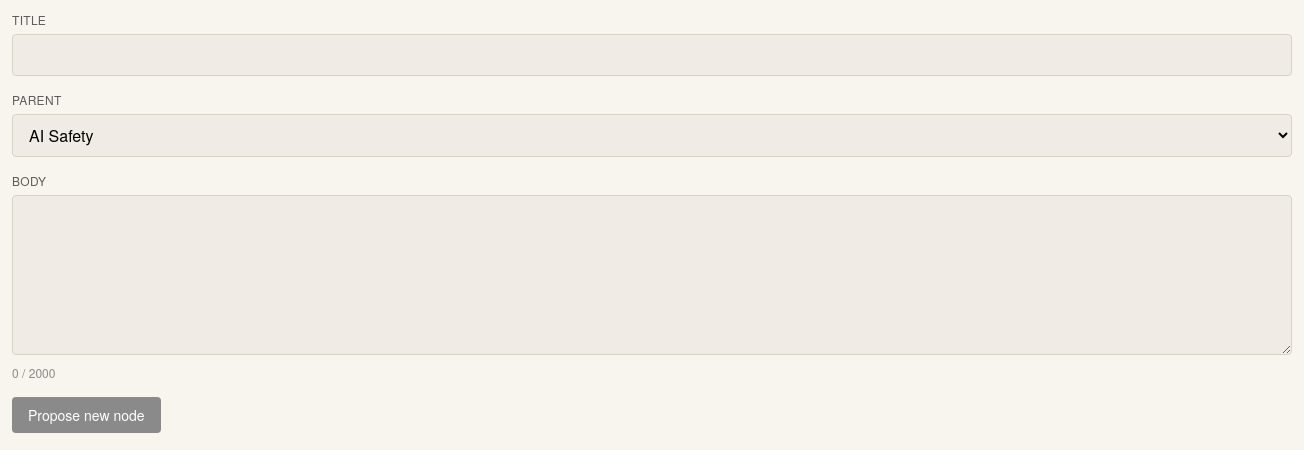
ProposeForm › enables submit when title and body are filled
The width and height of the screenshot is (1304, 450).
Type "New Node" into the field labelled "Title" at (652, 55), box [12,34,1292,76]
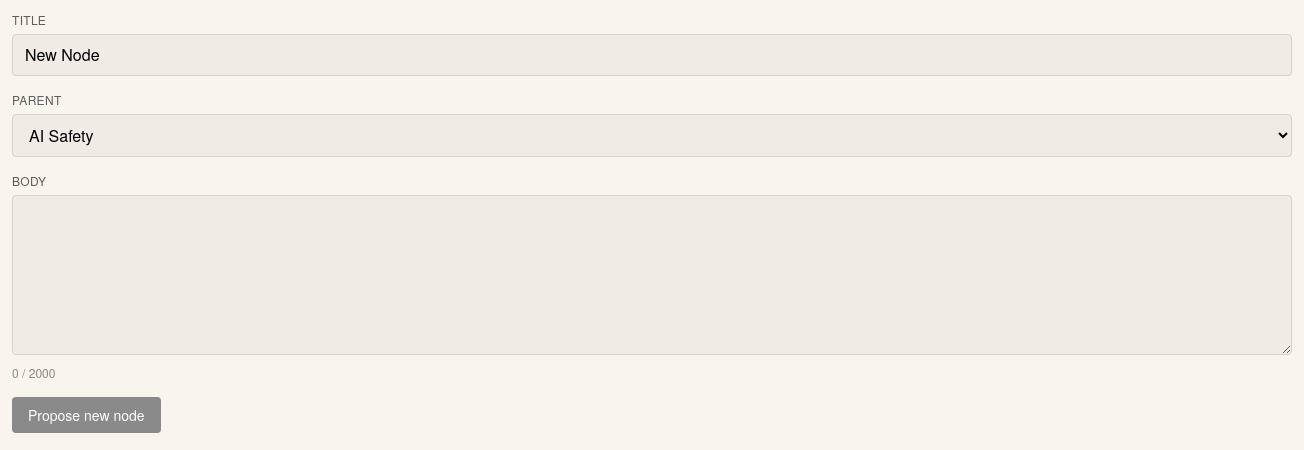
Type "Body text" into the text box labelled "Body" at (652, 275), box [12,195,1292,355]
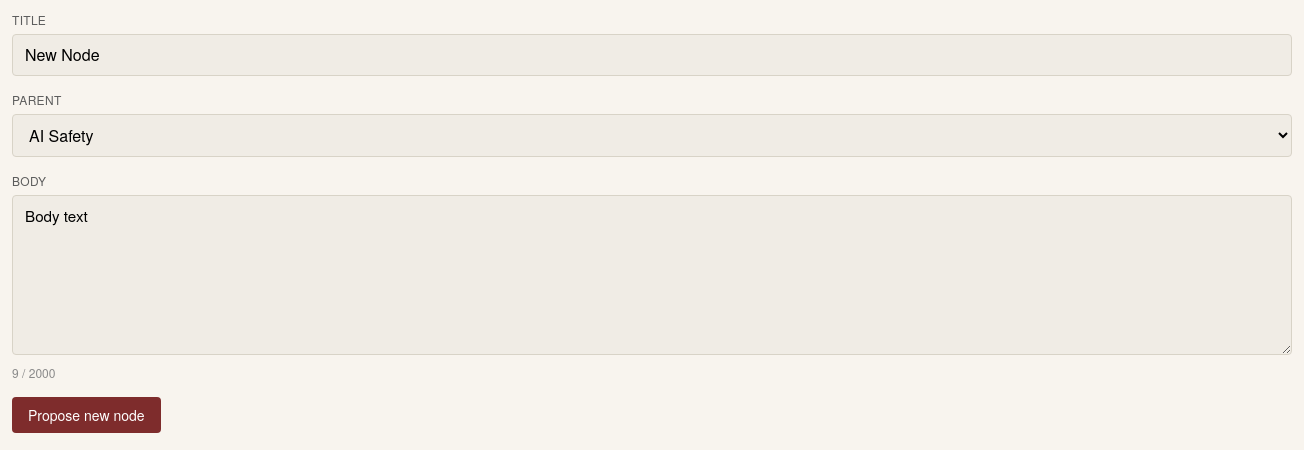
expect the button "Propose new node" is enabled: met, box [12,397,160,433]
